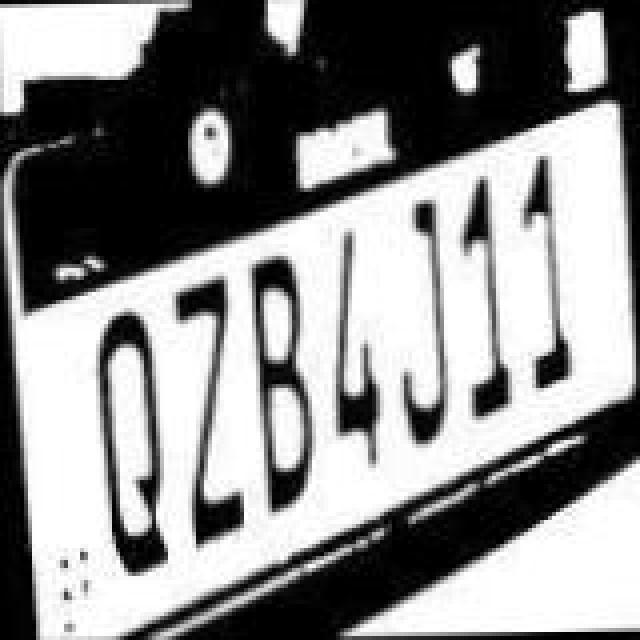1: (514, 156, 594, 404), (448, 176, 516, 432)
4: (316, 228, 384, 480)
B: (242, 244, 310, 520)
J: (384, 194, 452, 462)
Q: (86, 304, 162, 576)
Z: (166, 262, 242, 554)
